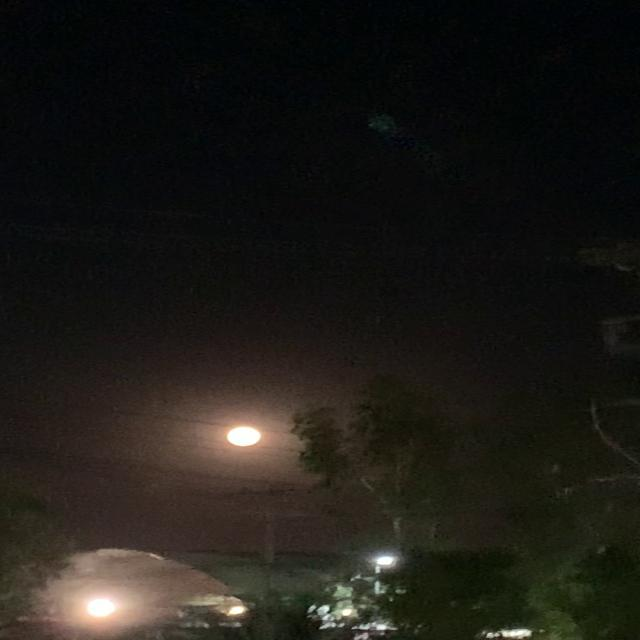moon: (220, 426, 262, 450)
